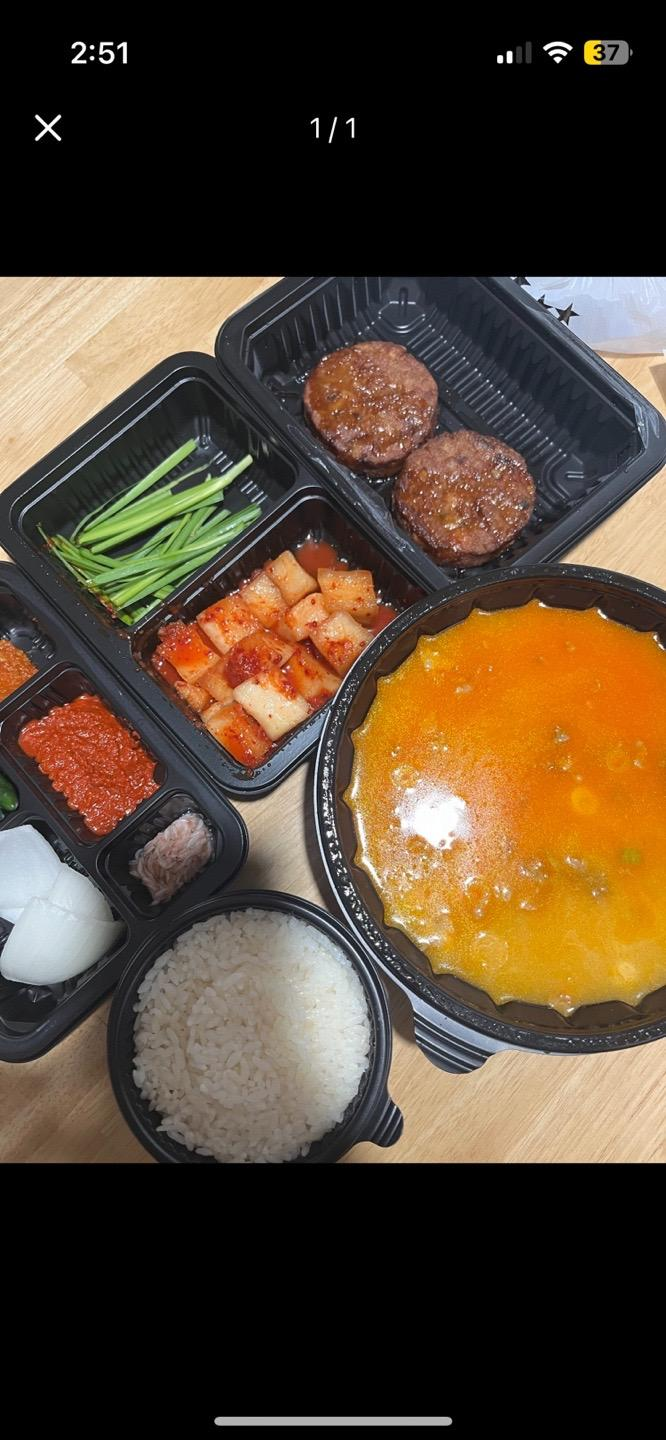Lunch Box: (0, 353, 429, 797), (313, 565, 665, 1072), (216, 276, 665, 578), (0, 563, 248, 1062), (107, 890, 403, 1164), (232, 355, 479, 373)
